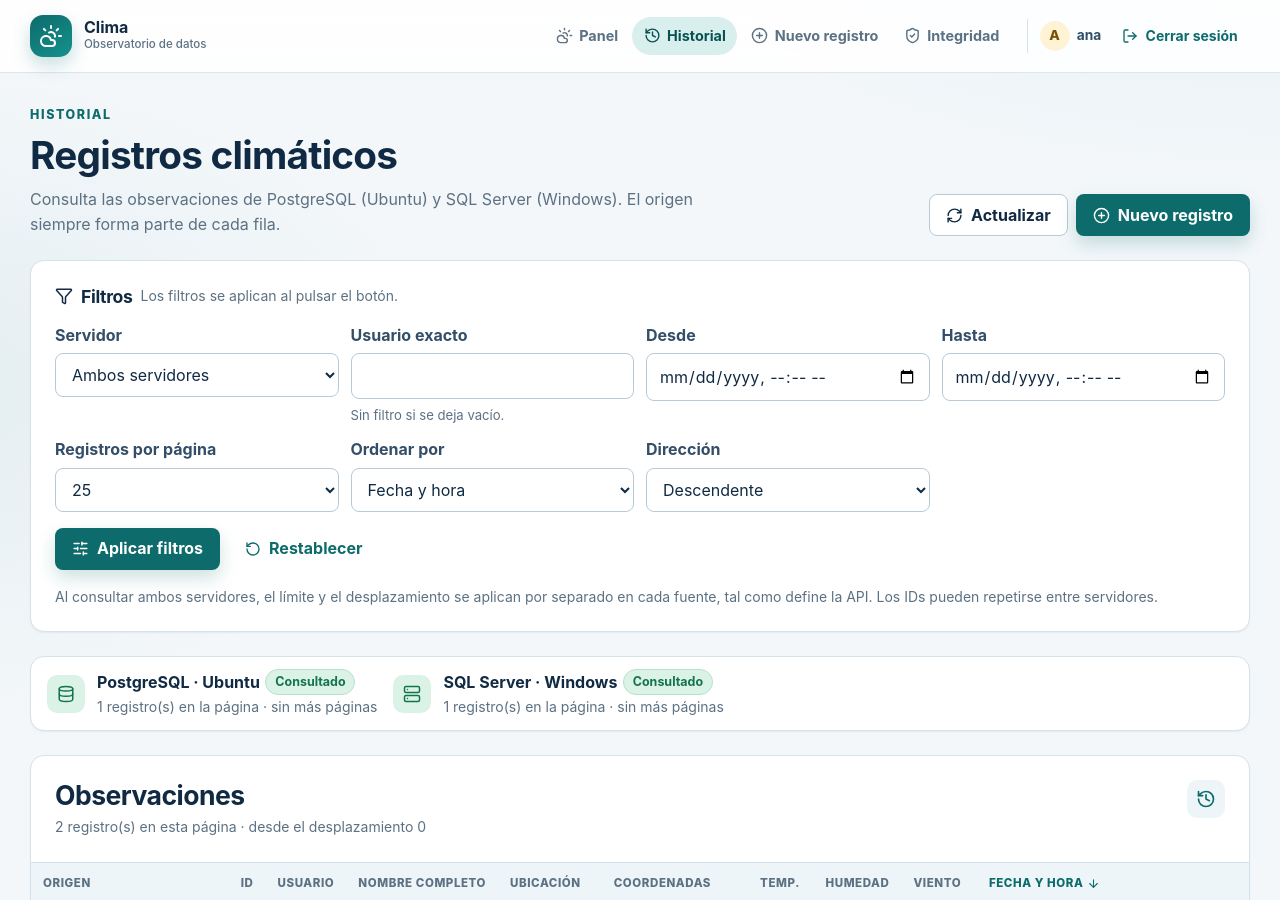
Test: historial de registros › no conserva filas de una consulta anterior si la nueva falla
Select "SQL Server · Windows" in the dropdown labelled "Servidor": (197, 376) [55, 354, 338, 398]
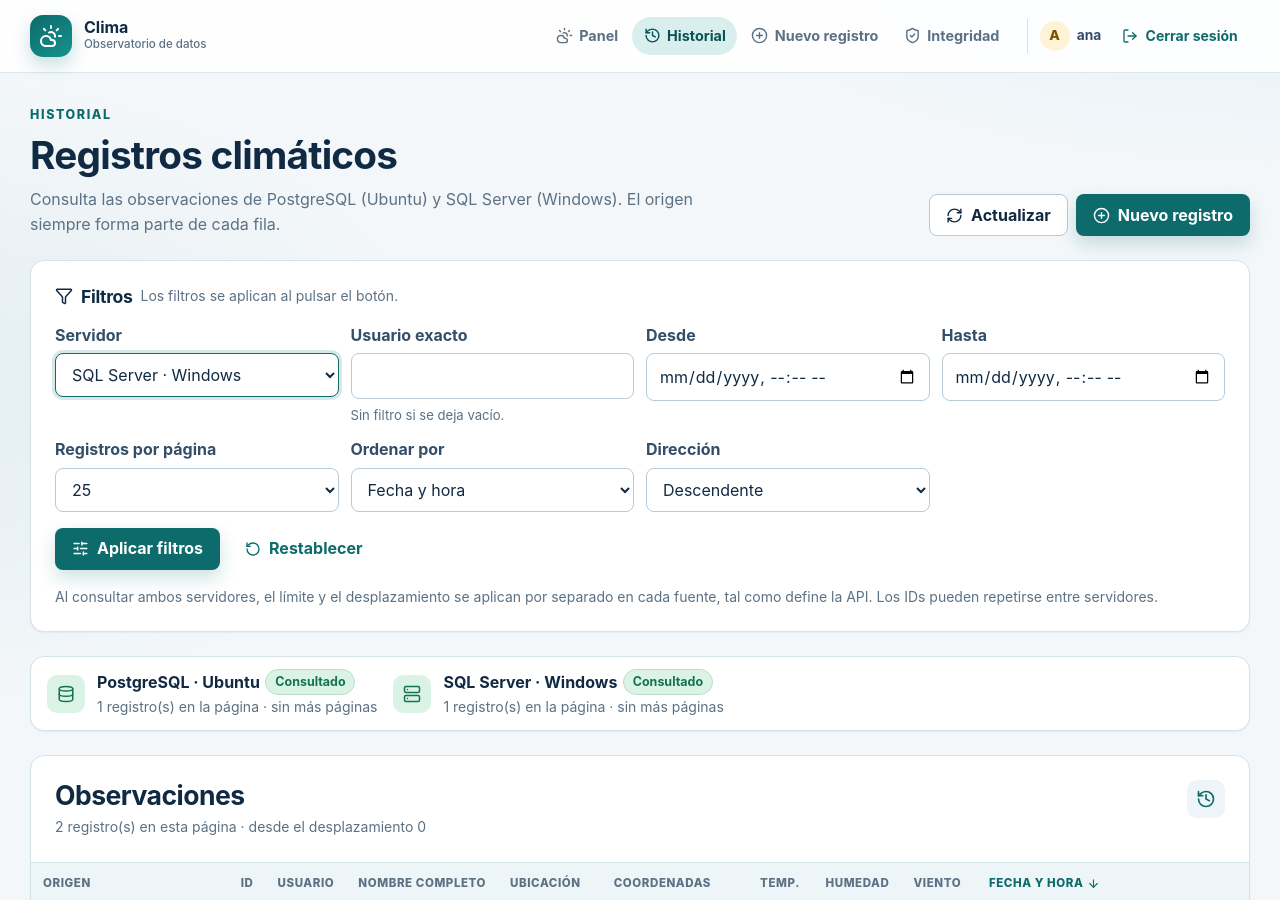
Click the button "Aplicar filtros": (138, 549) [55, 528, 220, 570]
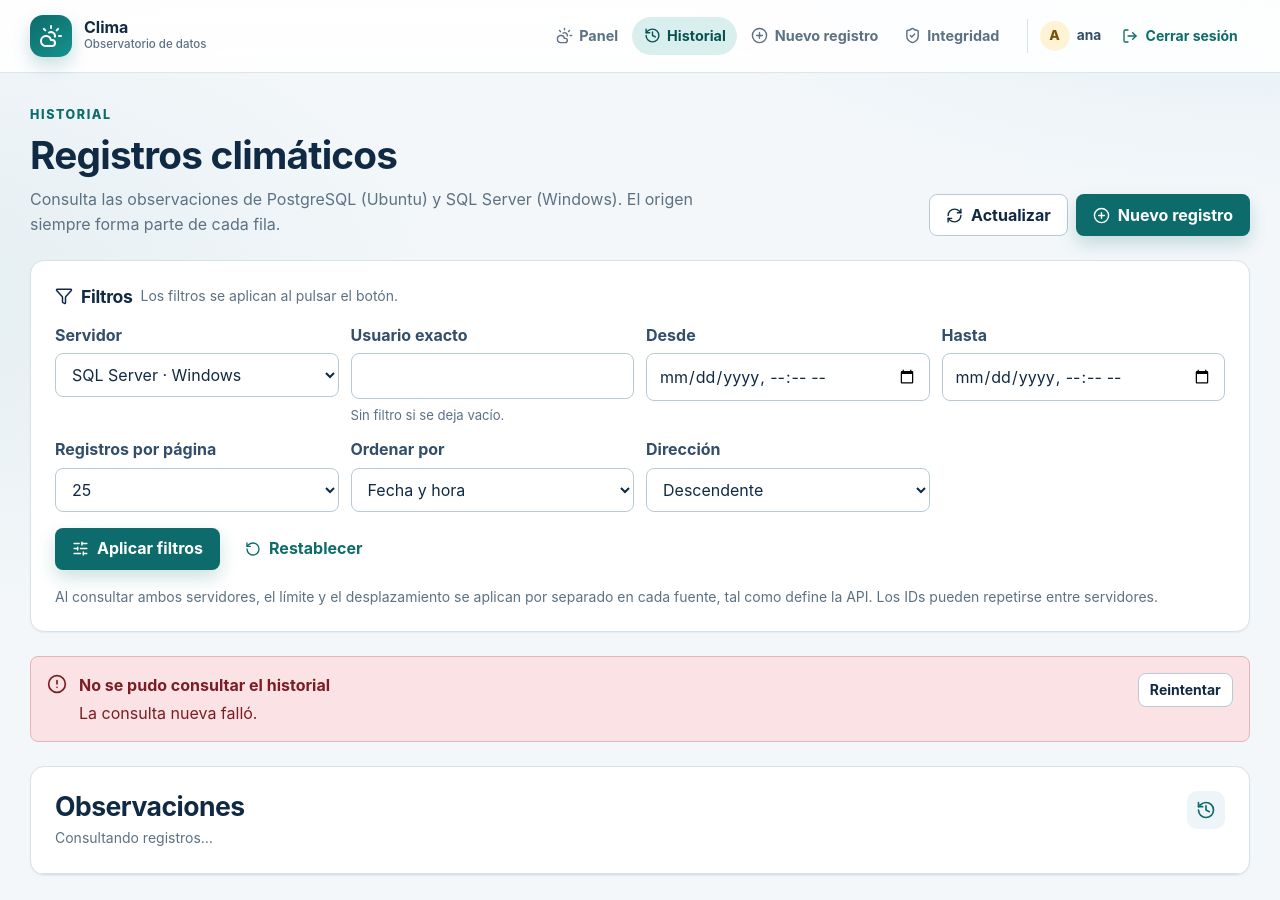
Expected: the text "La consulta nueva falló." is shown, [79, 703, 258, 723]
